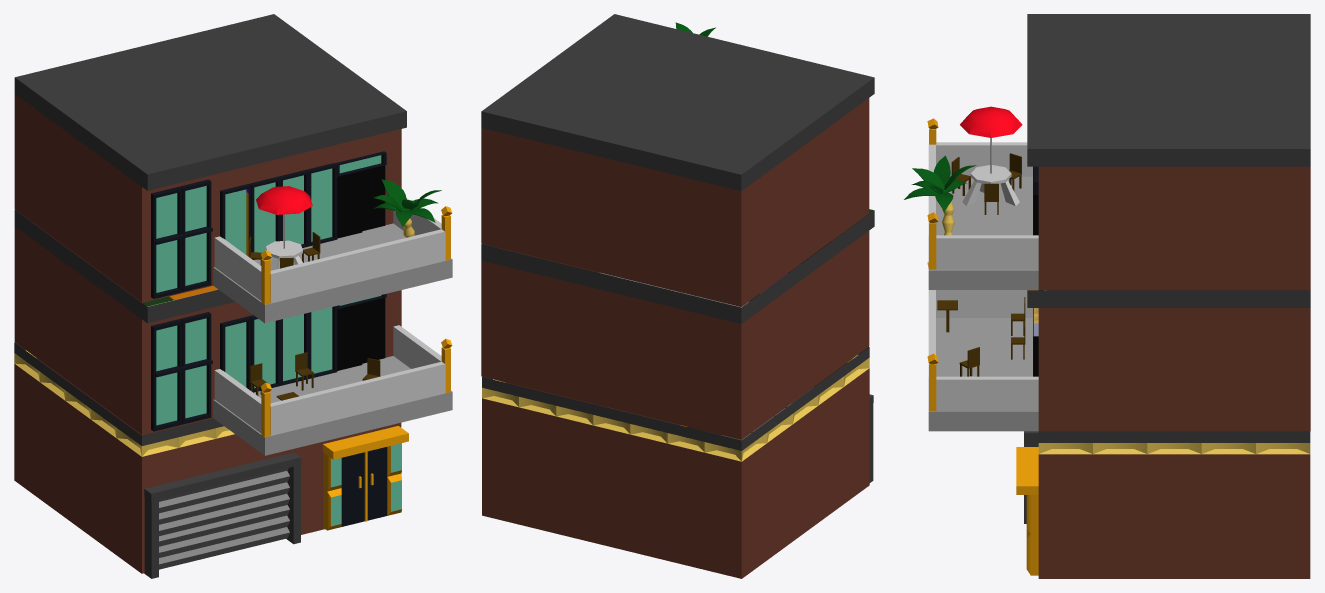
Rendered from PredioCentroMarromLOD0.fbx.
3 renders of one model, left to right at view 1: azimuth 30°, elevation 25°; view 2: azimuth 150°, elevation 25°; view 3: azimuth 270°, elevation 25°, orthographic. The views are drawn at different scales.
Parts seen in each view (by area): view 1: PredioFundacaoLOD0.001, Andar2.001, Andar1.001, Garagem.001; view 2: PredioFundacaoLOD0.001, Garagem.001; view 3: PredioFundacaoLOD0.001, Andar2.001, Andar1.001.
Boxes of the visible parts, box(x1,y1,x2,y2) form: PredioFundacaoLOD0.001: box(14, 14, 408, 573); Andar2.001: box(213, 179, 452, 323); Andar1.001: box(213, 325, 452, 455); Garagem.001: box(144, 452, 301, 578); PredioFundacaoLOD0.001: box(481, 14, 874, 578); Garagem.001: box(702, 387, 873, 482); PredioFundacaoLOD0.001: box(927, 14, 1310, 578); Andar2.001: box(904, 106, 1038, 289); Andar1.001: box(927, 290, 1046, 431).
Bounding box in the file's own units: 782 × 1161 × 994.
1 material, 1 textured.
